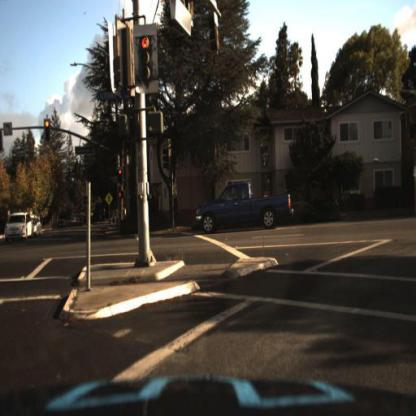car: (184, 175, 301, 240), (6, 214, 35, 242), (27, 218, 44, 239)
trafficLight-Red: (138, 35, 153, 86)
